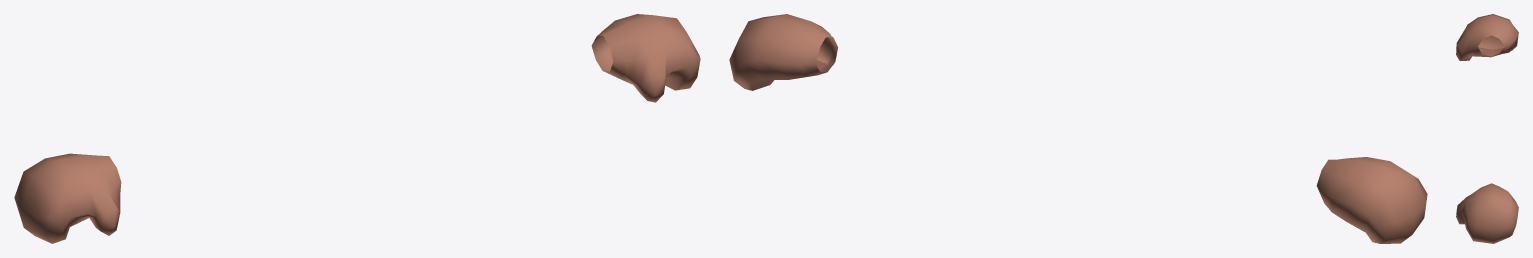
Rendered from Body_Brown_Hand.fbx.
The picture shows the model from 3 angles, left to right: view 1: azimuth 30°, elevation 25°; view 2: azimuth 150°, elevation 25°; view 3: azimuth 270°, elevation 25°; orthographic projection. The views are drawn at different scales.
Parts seen in each view (by area): view 1: Body_Brown_Hand; view 2: Body_Brown_Hand; view 3: Body_Brown_Hand.
Part boxes in pixels (x1,y1,x2,y2): Body_Brown_Hand: (14, 14, 700, 243); Body_Brown_Hand: (729, 14, 1427, 243); Body_Brown_Hand: (1456, 14, 1518, 243).
Bounding box in the file's own units: 130 × 13.15 × 17.22.
